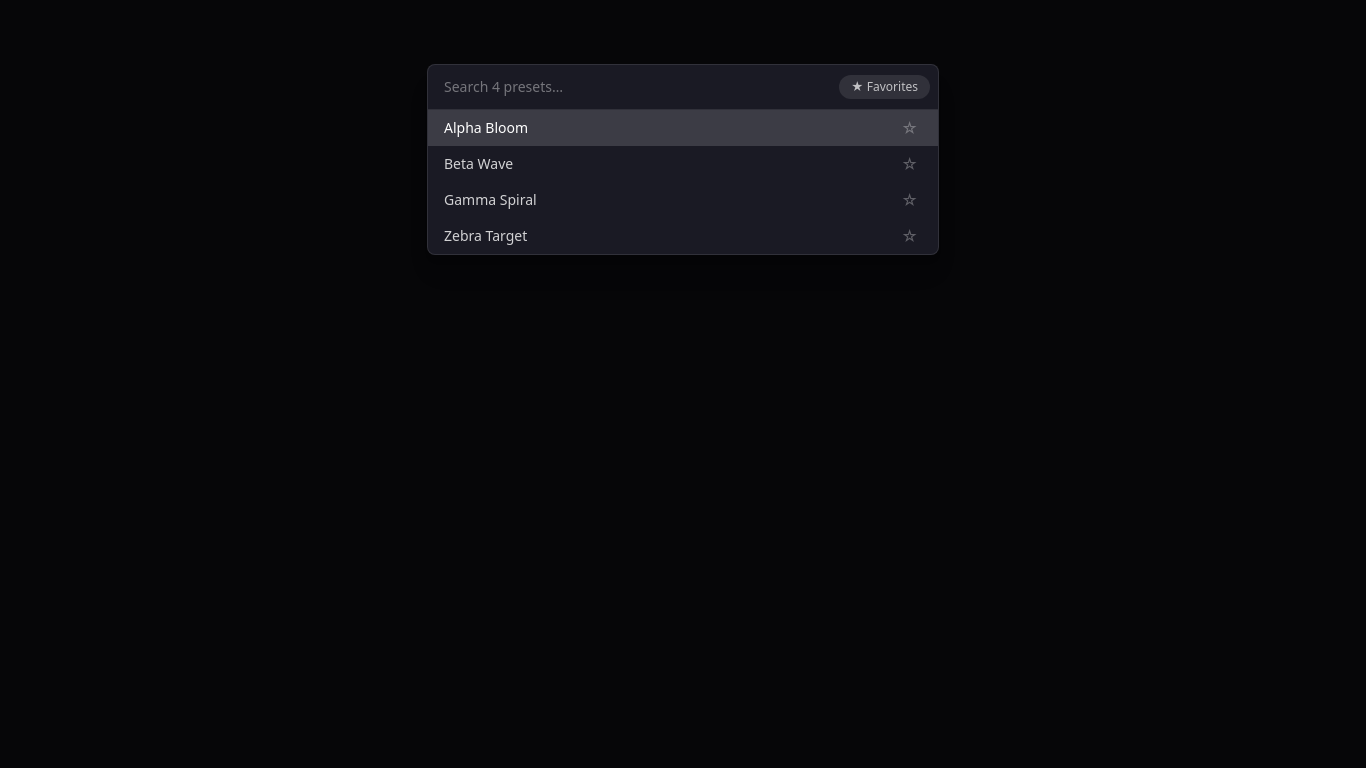
Scenario: PresetSearch › Favorites filter with no favorites shows an empty favorites state
Click the button with aria-label "Show favorites only" at (885, 87), box [839, 75, 930, 99]
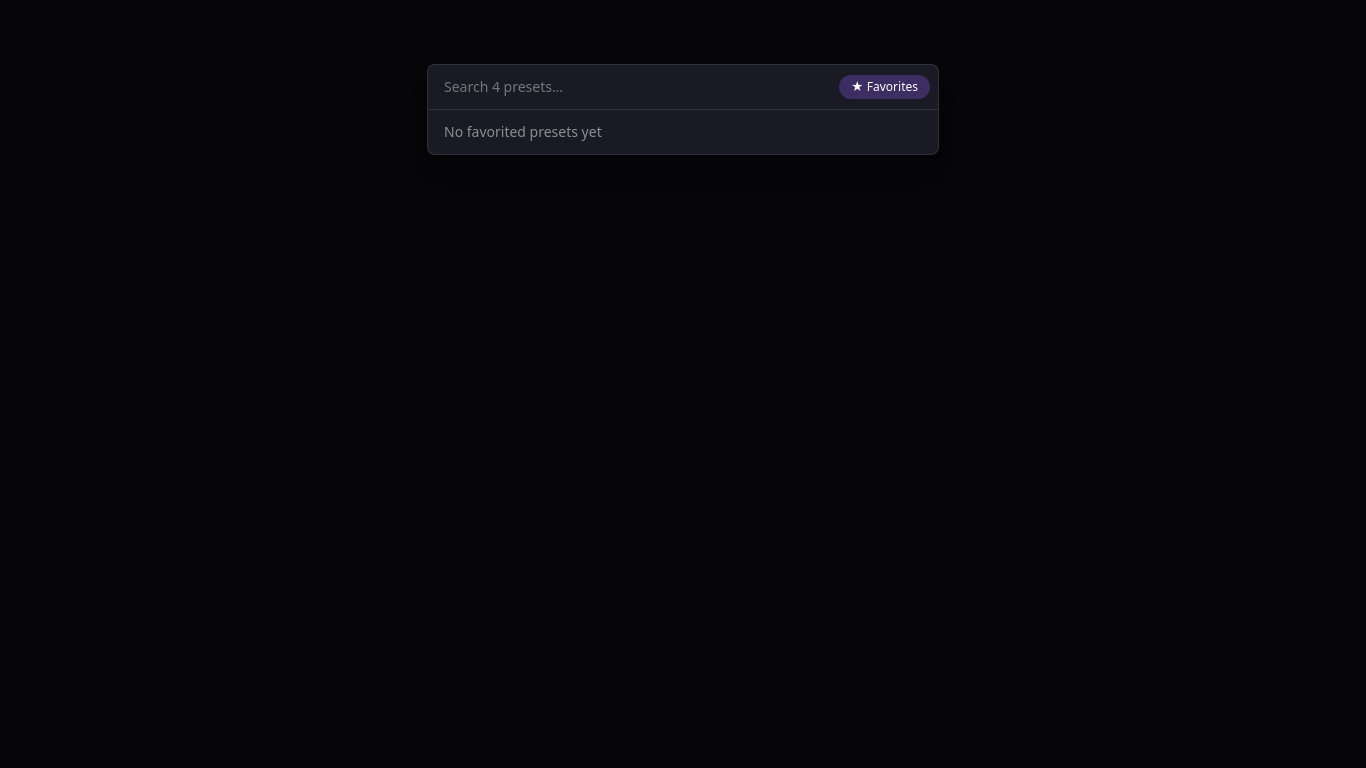
Check: the list item "No favorited presets yet" is shown, box [444, 122, 602, 141]
